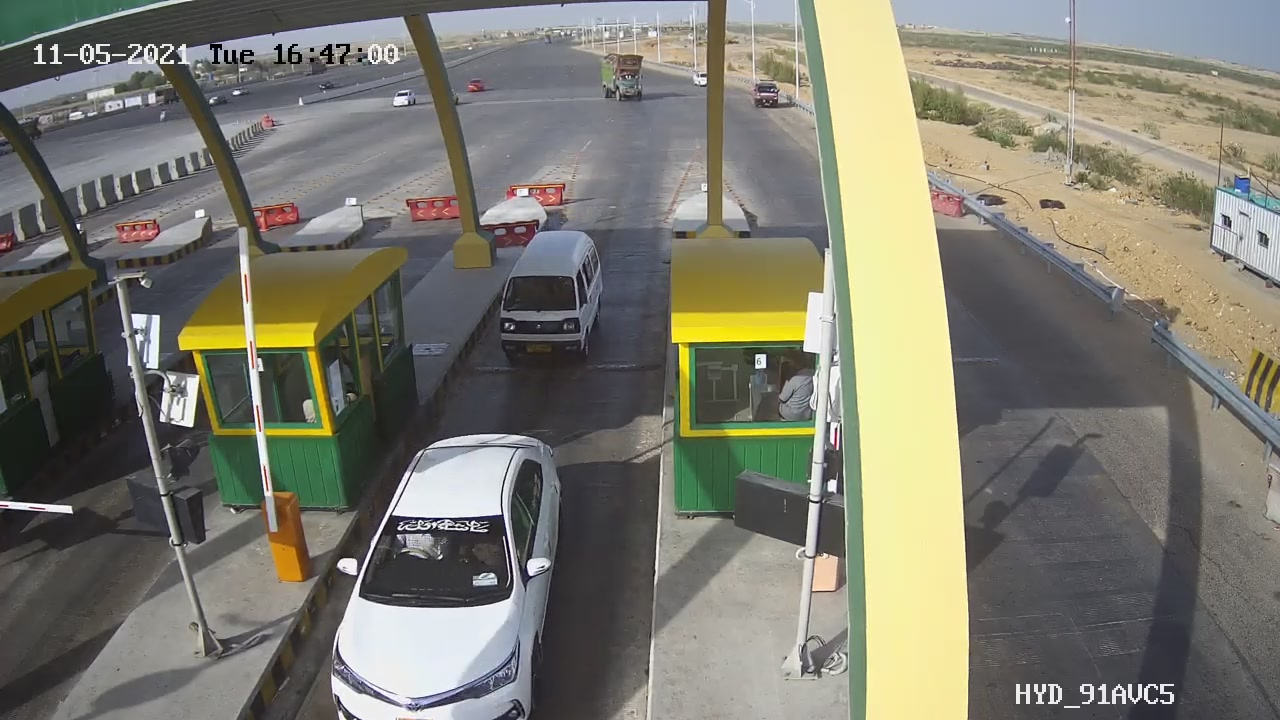F1: (478, 215, 622, 393)
